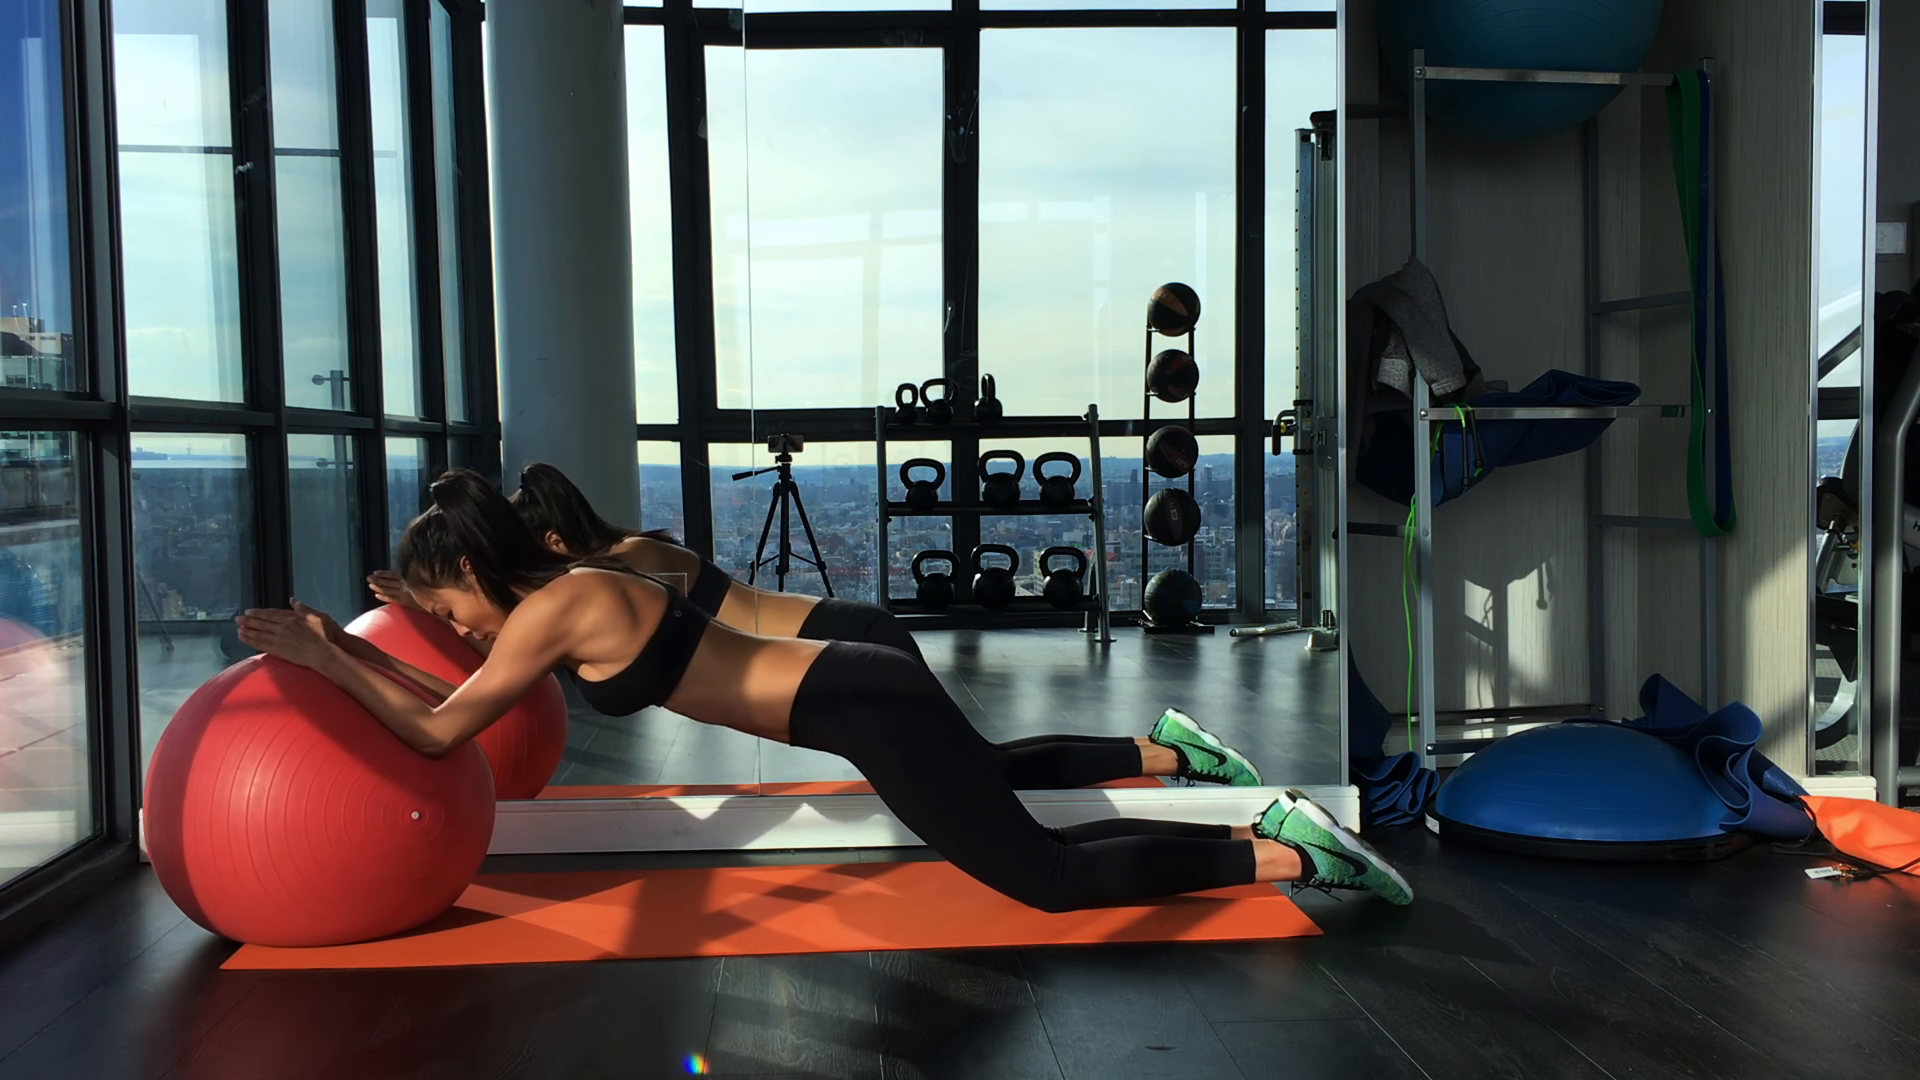yogaball: (131, 654, 506, 945)
